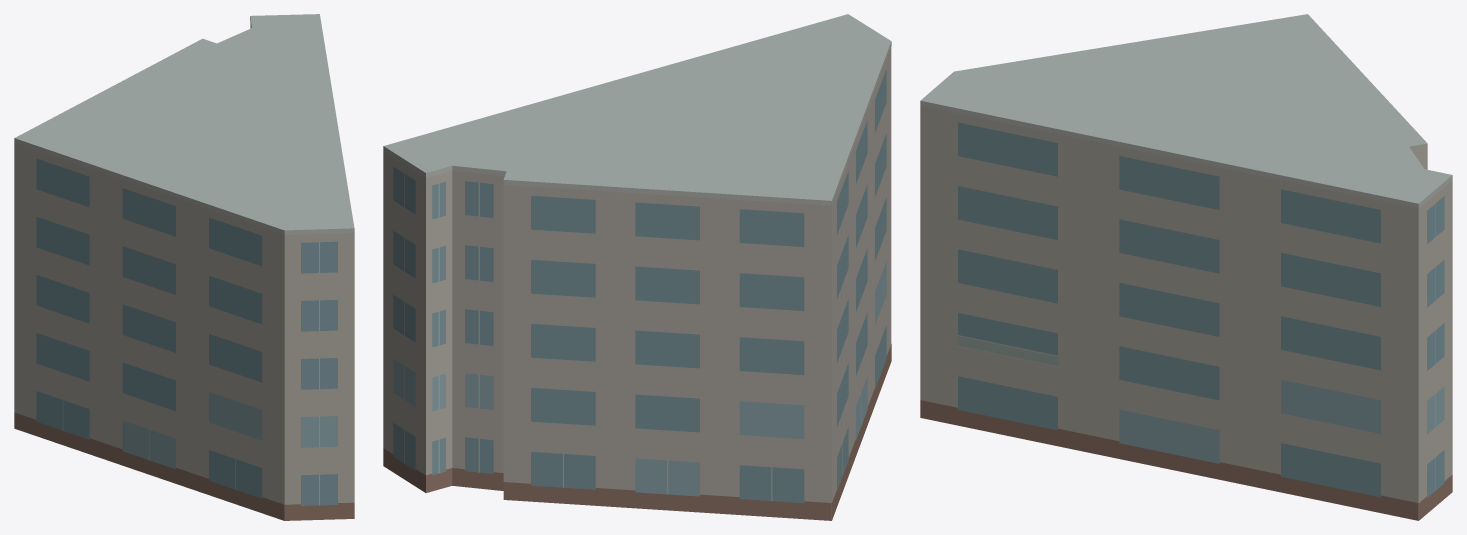
The model's file is survey-upis-32954657.glb.
3 views of the same model, side by side, from view 1: azimuth 30°, elevation 25°; view 2: azimuth 150°, elevation 25°; view 3: azimuth 270°, elevation 25° (orthographic). The views are drawn at different scales.
Visible parts, largest first — view 1: survey-upis-32954657.tmp; view 2: survey-upis-32954657.tmp; view 3: survey-upis-32954657.tmp.
Boxes of the visible parts, x1,y1,x2,y2 form: survey-upis-32954657.tmp: [14, 14, 354, 520]; survey-upis-32954657.tmp: [383, 14, 891, 520]; survey-upis-32954657.tmp: [920, 14, 1452, 520].
Bounding box in the file's own units: 20.16 × 15.7 × 23.89.
